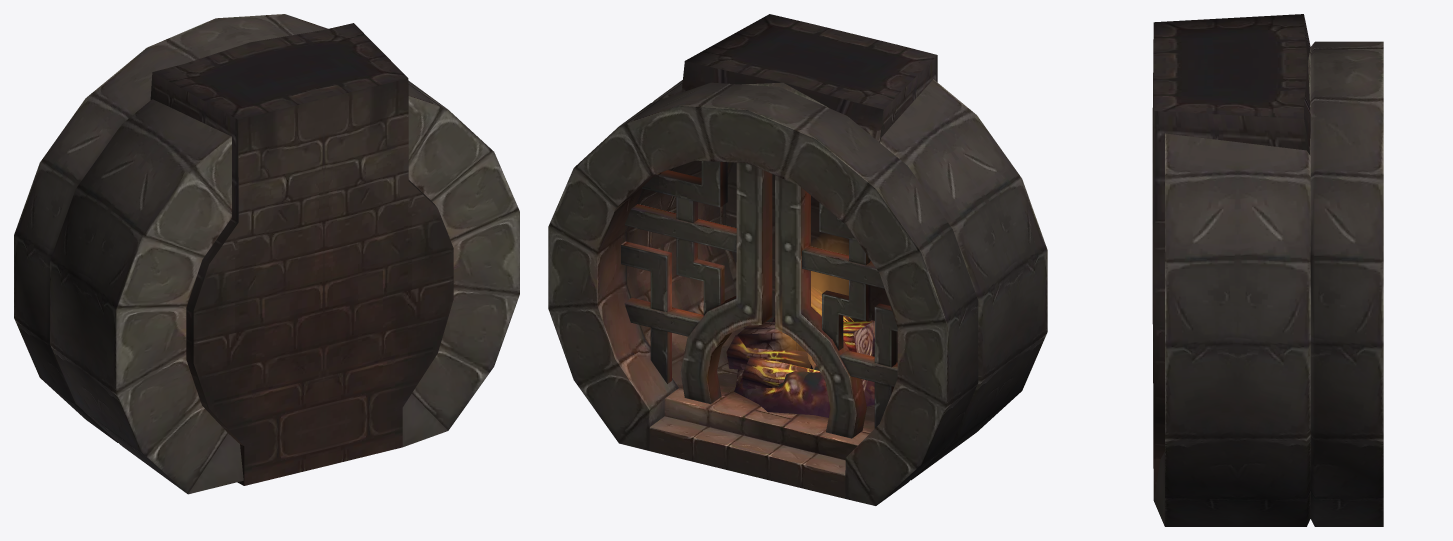
3 views of the same model, side by side, from view 1: azimuth 30°, elevation 25°; view 2: azimuth 150°, elevation 25°; view 3: azimuth 270°, elevation 25° (orthographic). The views are drawn at different scales.
Size of the model in its own units: 5.89 by 5.61 by 4.29.
4 materials, 4 textured.
